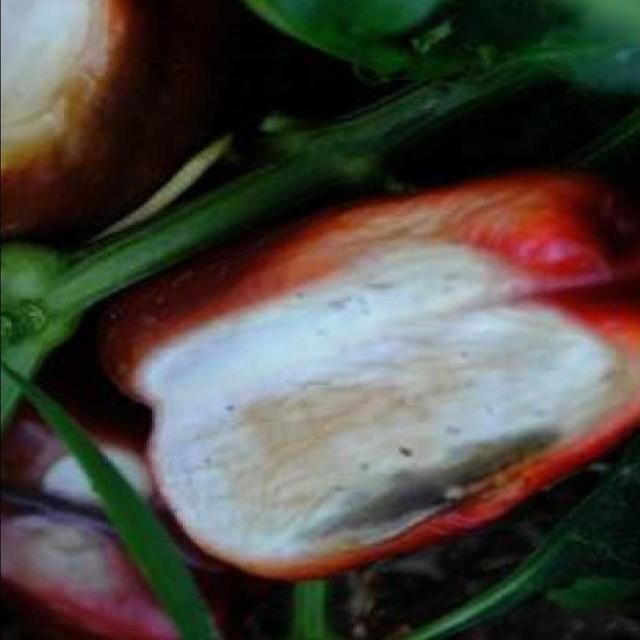Sunscald Fruit: (40, 67, 337, 348)
